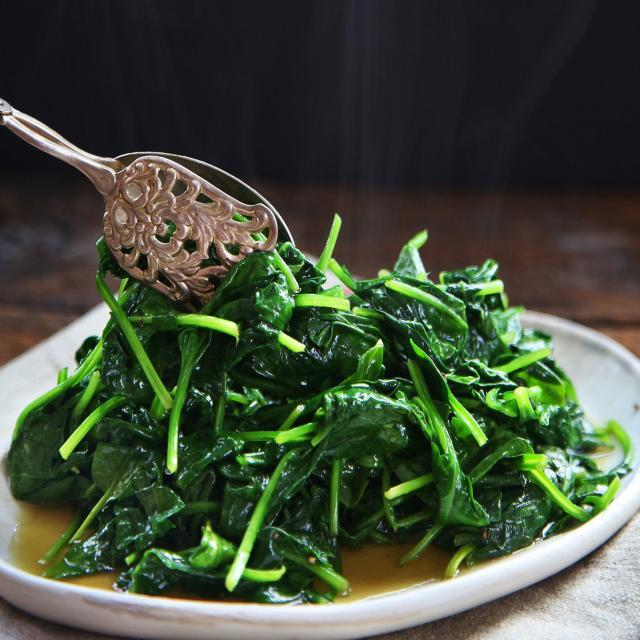Spinach: (0, 211, 634, 603)
